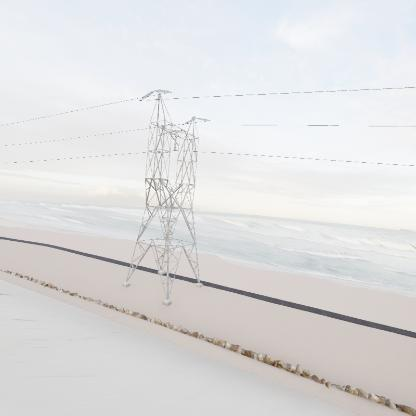tower: (120, 89, 212, 309)
